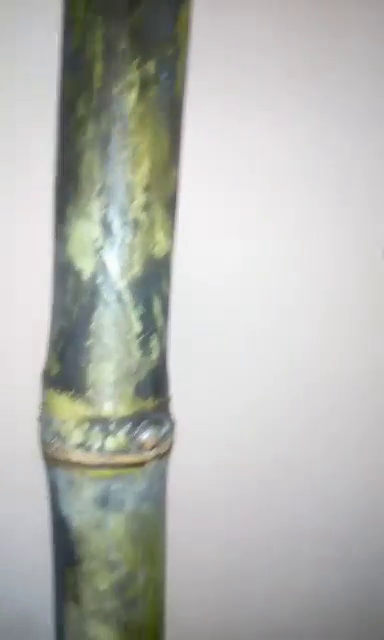cane eye: (134, 422, 164, 454)
